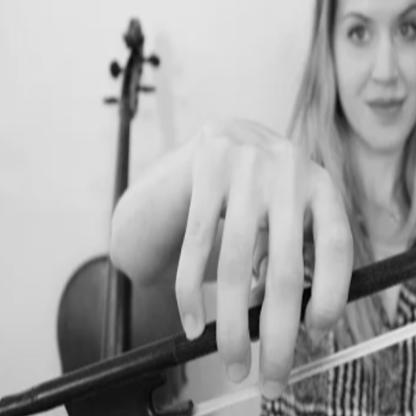good: (164, 105, 365, 404)
